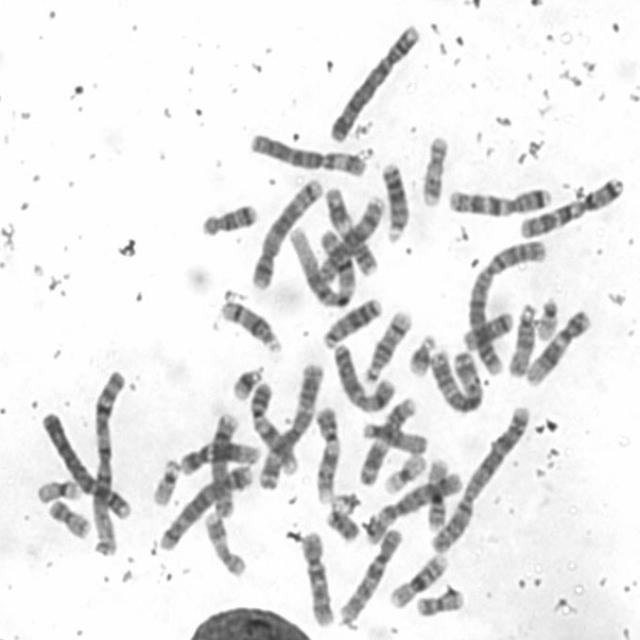A1: (87, 363, 128, 558), (286, 221, 359, 309)
A2: (426, 398, 534, 554), (463, 230, 550, 377)
A3: (253, 356, 326, 492), (425, 343, 486, 414)
B4: (324, 17, 423, 143), (37, 404, 134, 524)
B5: (247, 171, 327, 291), (155, 458, 257, 552)
C10: (336, 521, 406, 626), (297, 524, 337, 630)
C11: (355, 391, 420, 487), (318, 185, 384, 278)
C12: (522, 302, 594, 388), (176, 435, 263, 476)
C6: (358, 464, 465, 545), (245, 126, 370, 178)
C7: (514, 170, 627, 240), (443, 180, 554, 218)
C8: (316, 189, 386, 281), (206, 406, 241, 518)
C9: (246, 378, 300, 476), (311, 400, 343, 505)
D13: (320, 292, 384, 349), (377, 156, 411, 244)
D14: (359, 304, 414, 384), (216, 293, 284, 354)
D15: (358, 415, 430, 456), (505, 297, 539, 378)
E16: (386, 547, 451, 610), (422, 452, 452, 533)
E17: (200, 506, 248, 578), (416, 128, 451, 208)
E18: (197, 196, 260, 238), (460, 305, 516, 351)
F19: (378, 448, 428, 496), (32, 472, 83, 504)
F20: (44, 494, 94, 540), (413, 582, 466, 618)
G21: (227, 359, 267, 402), (404, 328, 438, 378)
G22: (148, 453, 184, 508), (531, 293, 562, 342)
X: (330, 337, 398, 414)
